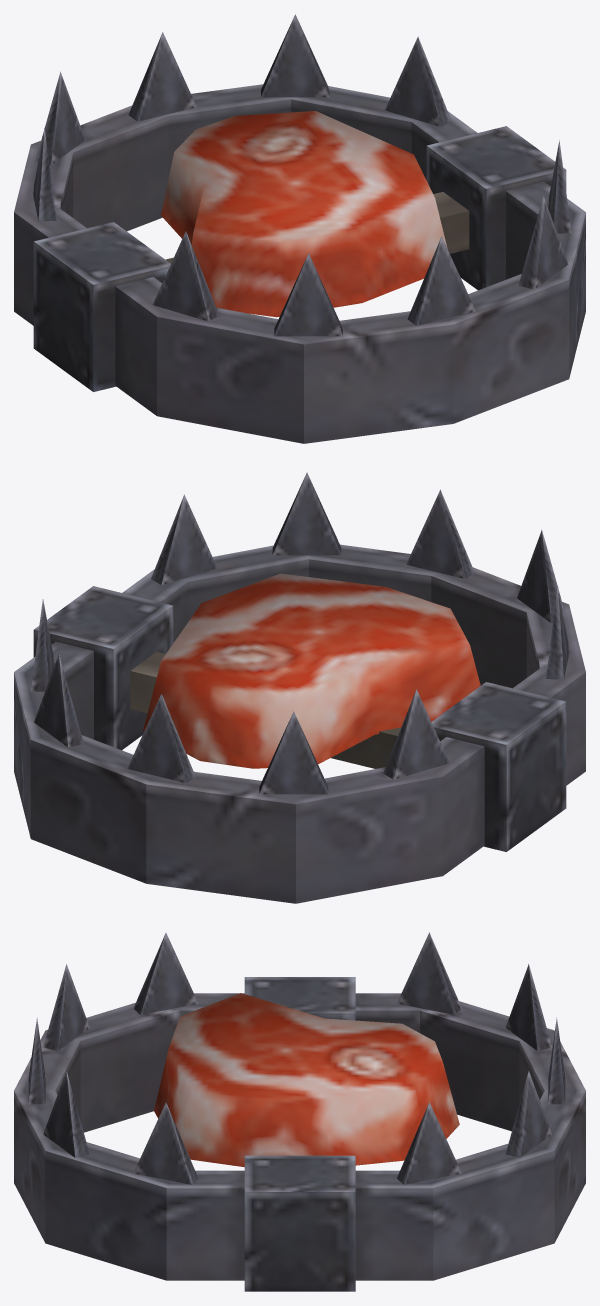
Rendered from prop_list_15.FBX.
3 renders of one model, top to bottom at view 1: azimuth 30°, elevation 25°; view 2: azimuth 150°, elevation 25°; view 3: azimuth 270°, elevation 25°, orthographic. The views are drawn at different scales.
Visible parts, largest first — view 1: prop_list_15; view 2: prop_list_15; view 3: prop_list_15.
Boxes of the visible parts, <box> form: prop_list_15: <box>14,14,585,443</box>; prop_list_15: <box>14,472,585,903</box>; prop_list_15: <box>14,932,585,1291</box>.
Bounding box in the file's own units: 37.09 × 13.49 × 41.71.
